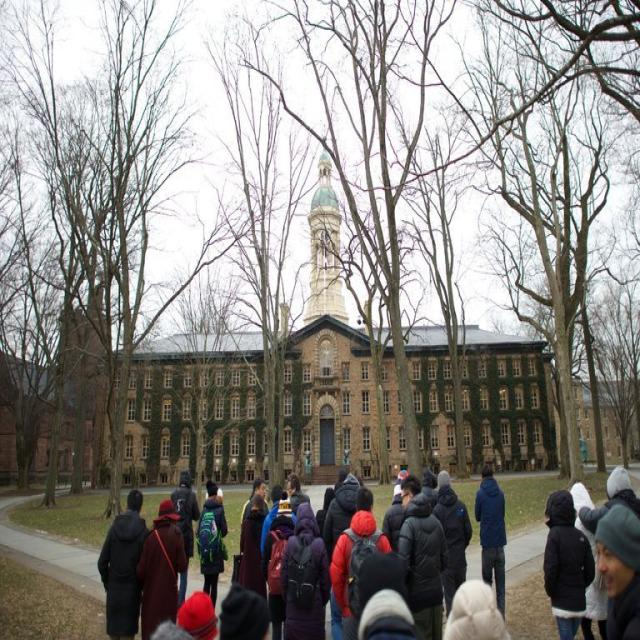body: (328, 486, 394, 640), (396, 472, 452, 640), (96, 486, 152, 640), (541, 485, 596, 639), (135, 496, 189, 639), (278, 498, 332, 638), (322, 470, 366, 640), (149, 580, 273, 640), (593, 497, 639, 640), (568, 479, 608, 640), (432, 468, 473, 622), (474, 465, 508, 626), (262, 496, 296, 640), (439, 576, 516, 639), (195, 479, 230, 611), (577, 463, 640, 536), (170, 469, 202, 609), (230, 492, 268, 600), (354, 585, 420, 640), (259, 483, 300, 562), (381, 476, 407, 554), (239, 475, 272, 526), (239, 475, 270, 526), (286, 472, 303, 524), (418, 468, 440, 500), (276, 489, 292, 511), (396, 466, 411, 479)
